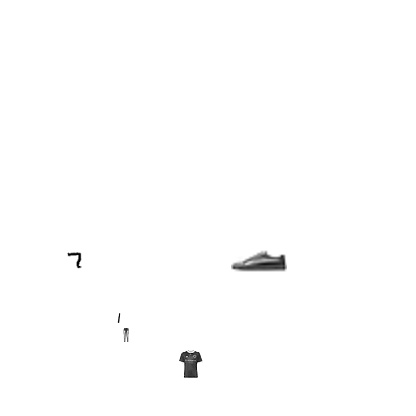1: (112, 311, 126, 325)
7: (65, 247, 87, 269)
Sneaker: (231, 233, 287, 289)
T-shirt/top: (177, 350, 205, 378)
Trouser: (119, 328, 133, 342)
